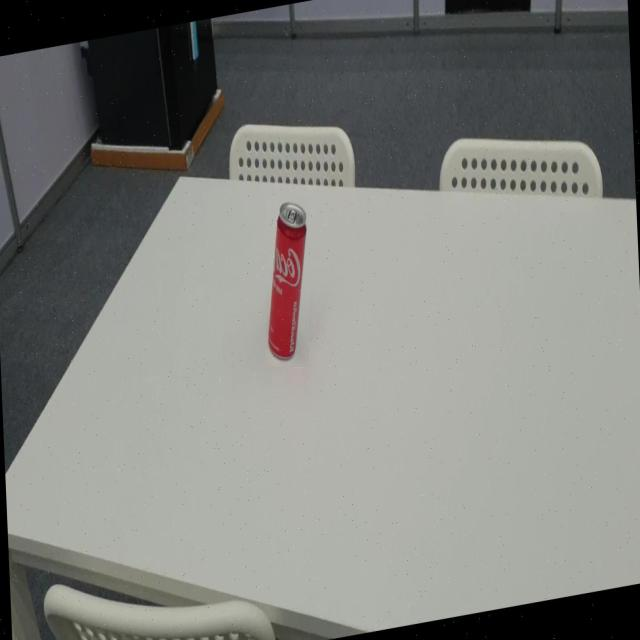coca-cola: (266, 196, 309, 367)
